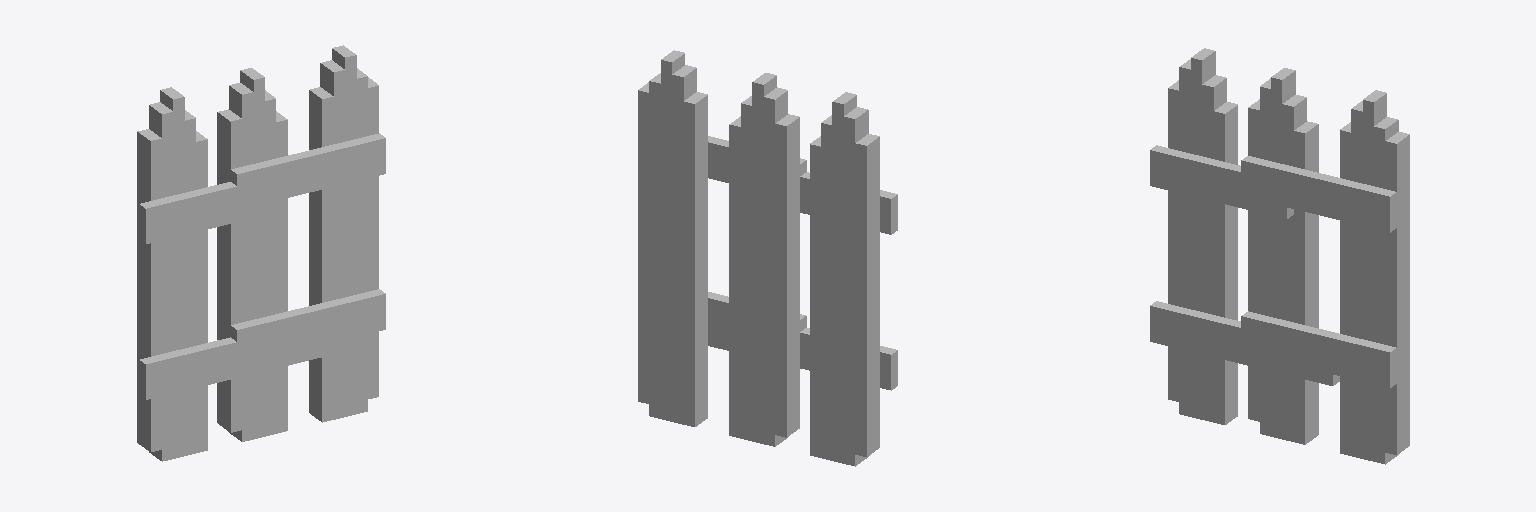
File: Barriere_GoodPalette.obj
The picture shows the model from 3 angles: view 1: azimuth 30°, elevation 25°; view 2: azimuth 150°, elevation 25°; view 3: azimuth 330°, elevation 25°; orthographic projection.
Bounding box in the file's own units: 21 × 30 × 3.